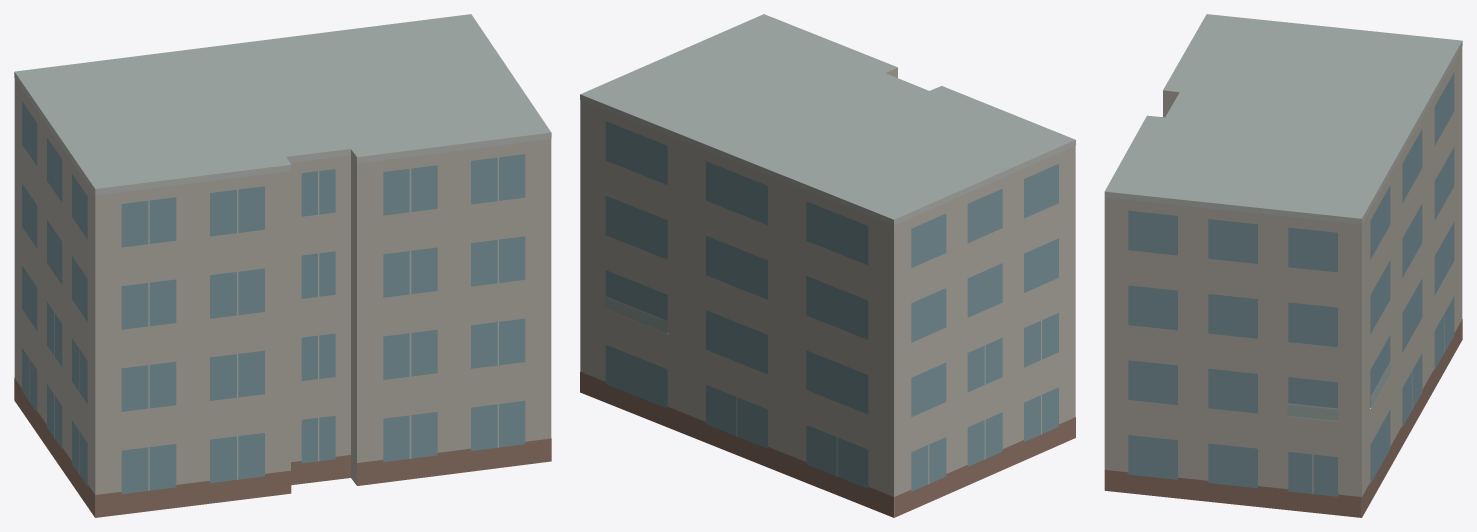
Rendered from survey-upis-32702176.glb.
3 views of the same model, side by side, from view 1: azimuth 30°, elevation 25°; view 2: azimuth 150°, elevation 25°; view 3: azimuth 270°, elevation 25° (orthographic). The views are drawn at different scales.
Visible parts, largest first — view 1: survey-upis-32702176.tmp; view 2: survey-upis-32702176.tmp; view 3: survey-upis-32702176.tmp.
Part boxes in pixels (bbox=[...]): survey-upis-32702176.tmp: bbox=[14, 14, 551, 517]; survey-upis-32702176.tmp: bbox=[580, 14, 1075, 517]; survey-upis-32702176.tmp: bbox=[1104, 14, 1462, 517].
Size of the model in its own units: 18.8 by 12.8 by 13.89.
